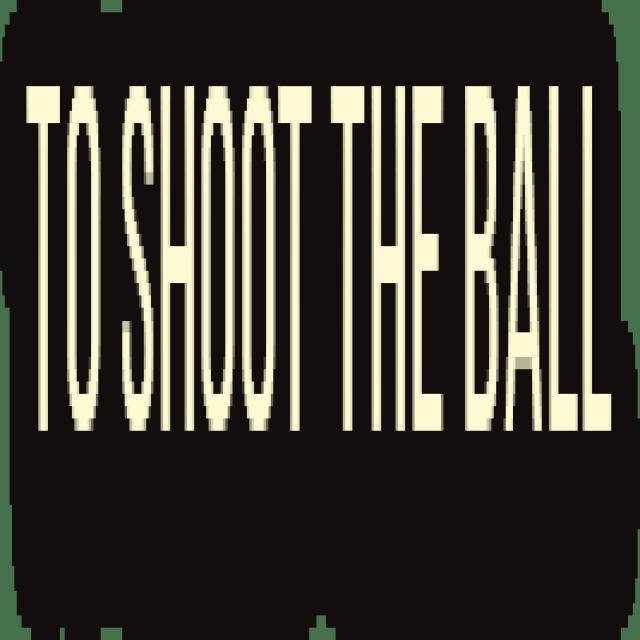Background Image: (0, 0, 638, 628)
